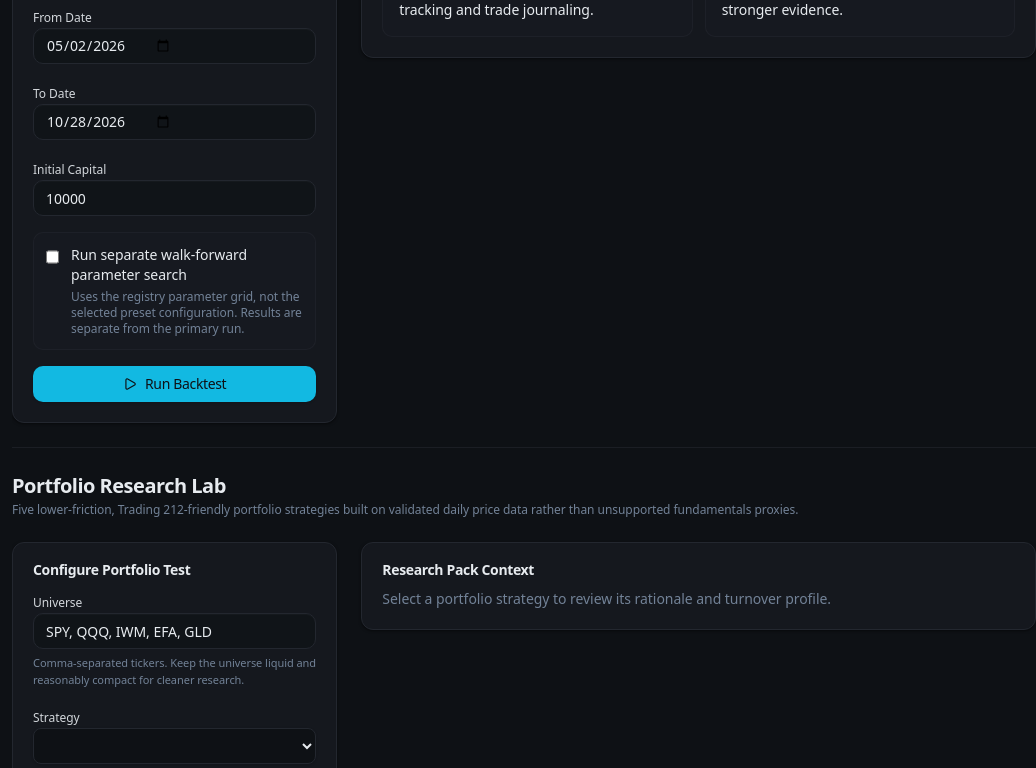
Test: server stale-preset rejection is visible and never retries with defaults
(page scrolled)
Click the button "Run Backtest" at (175,384), box [33,366,316,402]
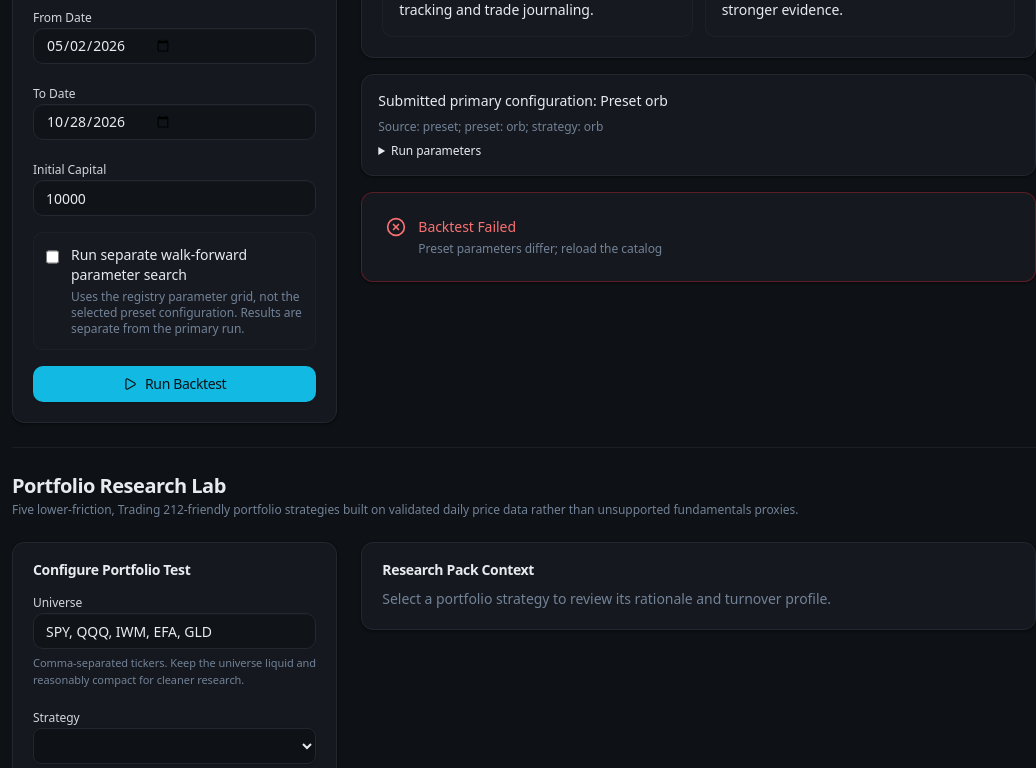
Result: the text "Preset parameters differ; reload the catalog" is shown at [418,241,662,257]
